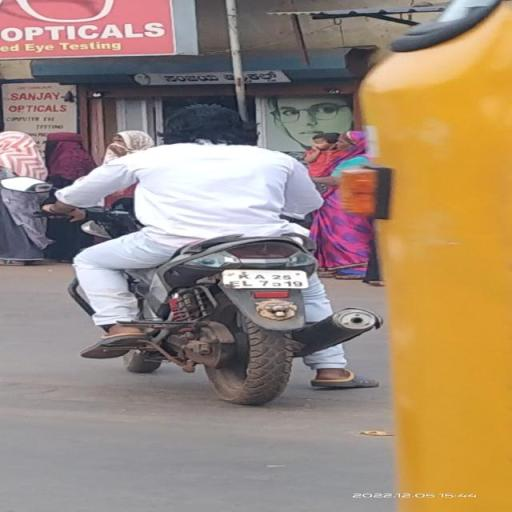bike: (0, 100, 378, 411)
numberplate: (222, 268, 310, 292)
withouthelmet: (172, 104, 239, 146)
